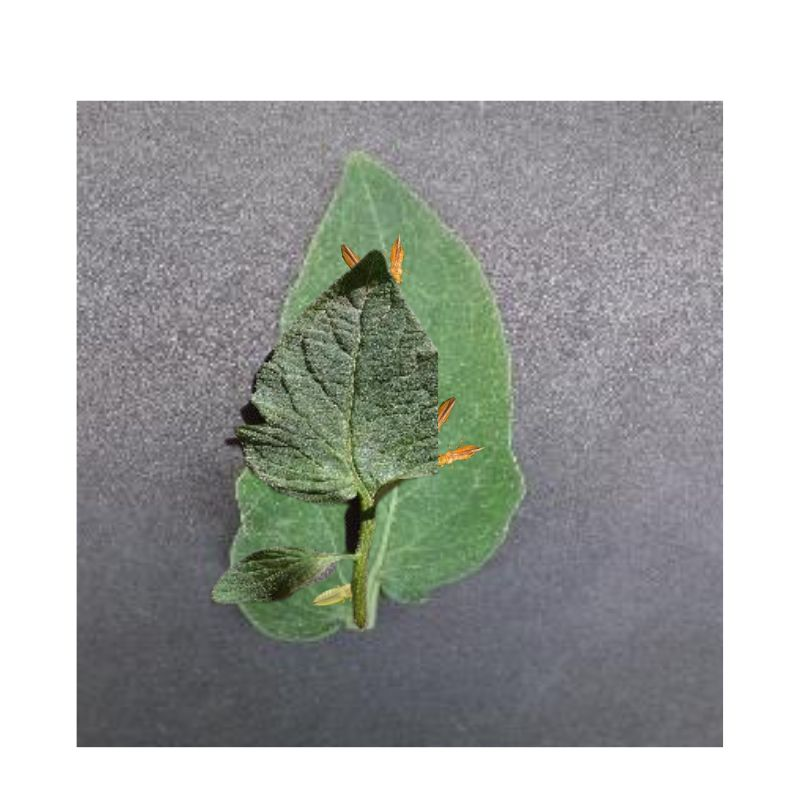thrips: (436, 441, 485, 467), (309, 579, 354, 606), (388, 232, 404, 283), (435, 393, 455, 429), (338, 246, 359, 269)
